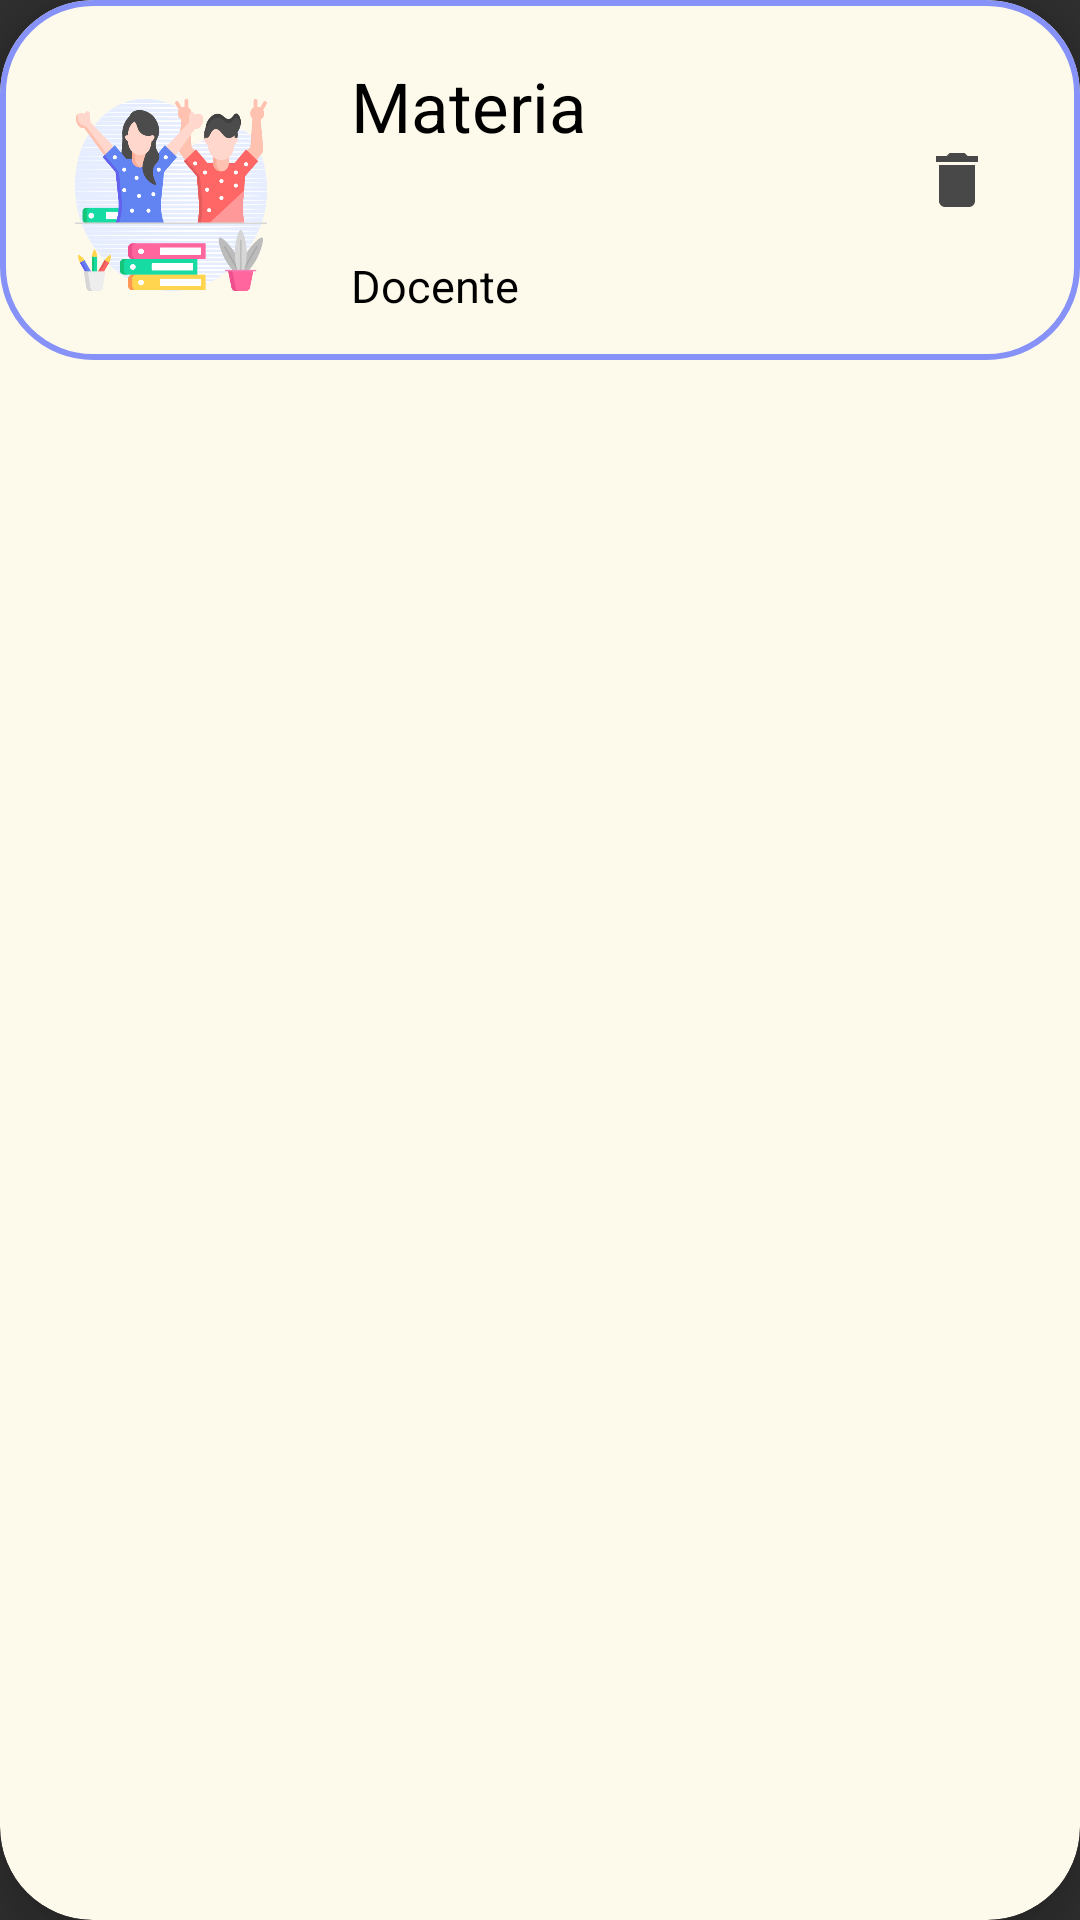

Point at icon controls on the screen. Image size 1080px x 1920px, points as (x=x, y=y).
Eliminar clase: (x=957, y=180)
